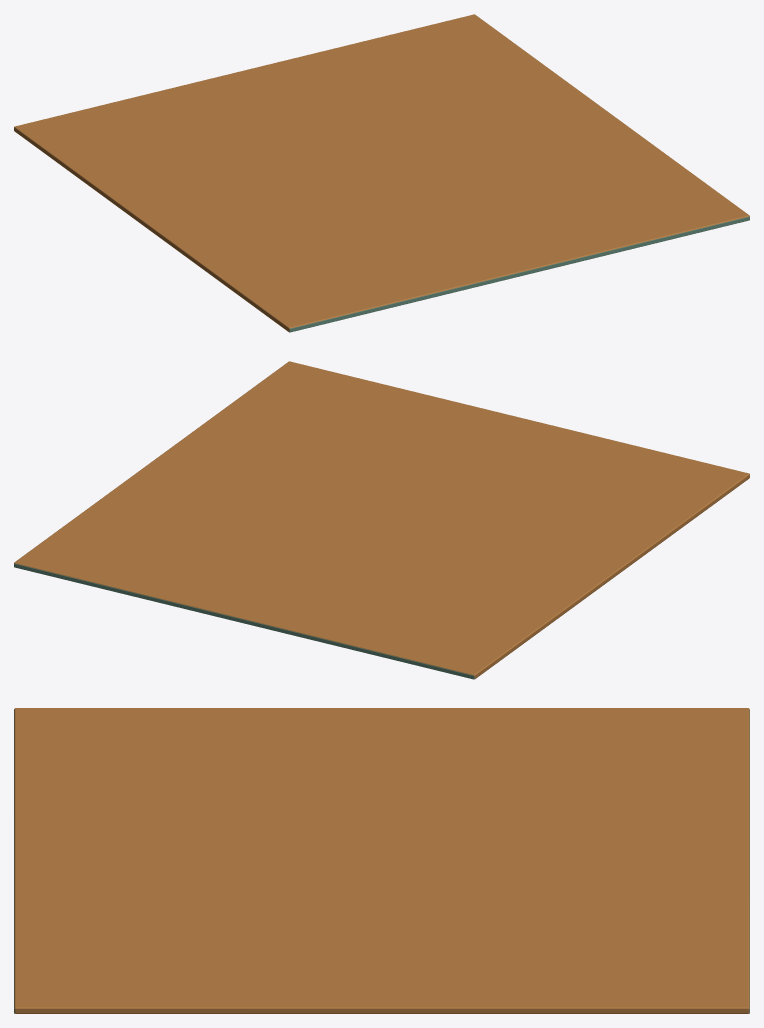
Rendered from counter-east-light.glb.
3 views of the same model, one above another, from view 1: azimuth 30°, elevation 25°; view 2: azimuth 150°, elevation 25°; view 3: azimuth 270°, elevation 25° (orthographic). The views are drawn at different scales.
Parts seen in each view (by area): view 1: wood, sage; view 2: wood, sage; view 3: wood, sage.
Part boxes in pixels (box(x1,y1,x2,y2)): wood: box(14, 14, 749, 331); sage: box(289, 216, 749, 332); wood: box(14, 361, 749, 678); sage: box(14, 563, 474, 679); wood: box(14, 708, 749, 1013); sage: box(14, 709, 749, 1013).
Bounding box in the file's own units: 29 × 0.3 × 30.03.
